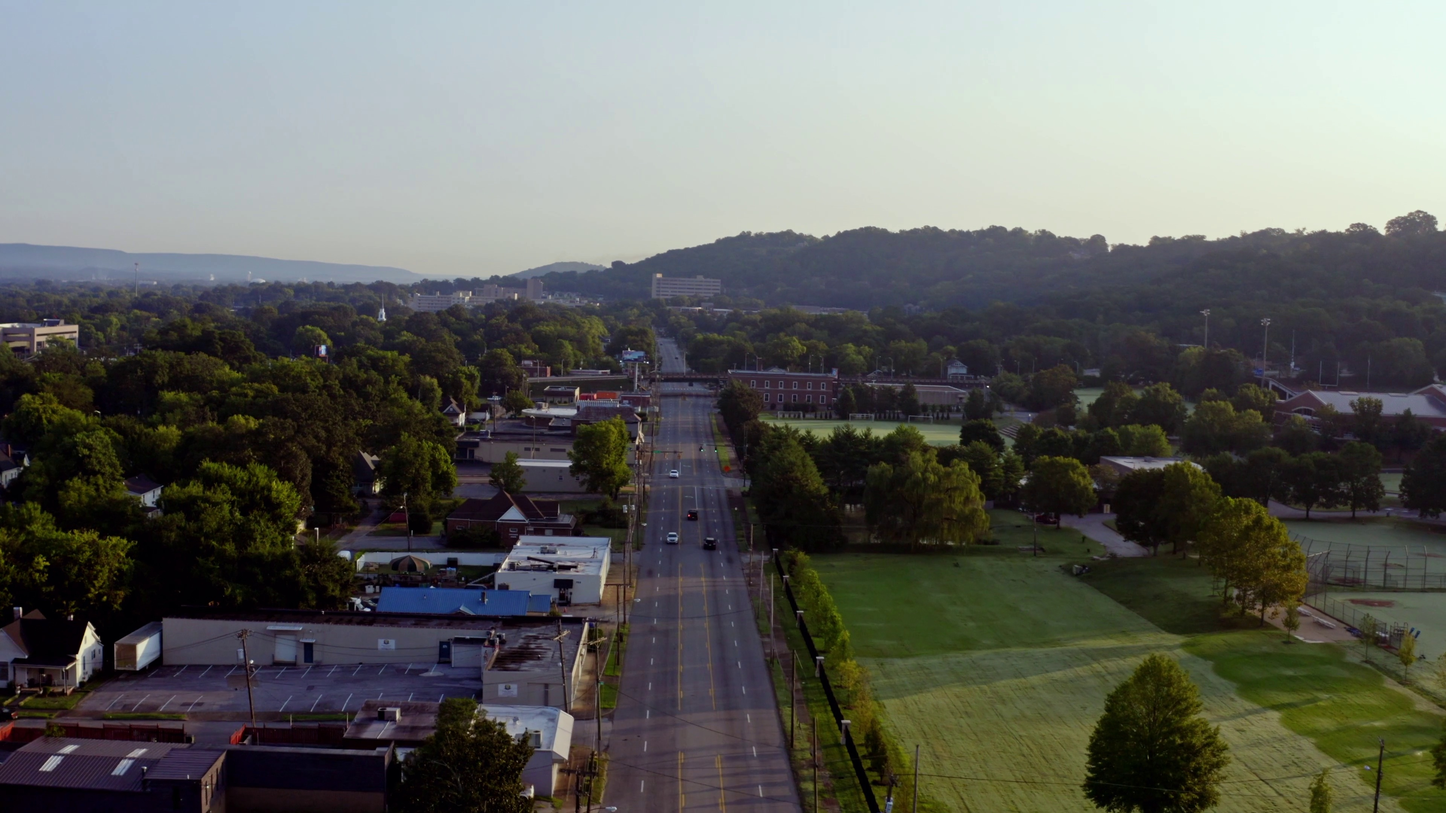Vehicle: (0, 706, 18, 722), (703, 537, 716, 550), (666, 532, 679, 544), (687, 510, 698, 521), (669, 470, 679, 478), (675, 355, 679, 359), (688, 382, 693, 385)
